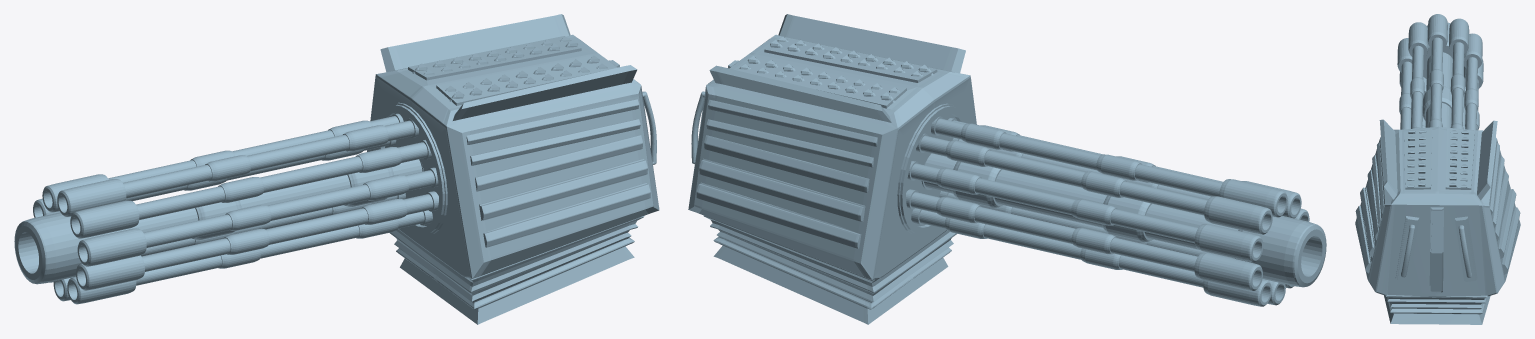
Rendered from cañonPrincip.fbx.
3 views of the same model, side by side, from view 1: azimuth 30°, elevation 25°; view 2: azimuth 150°, elevation 25°; view 3: azimuth 270°, elevation 25° (orthographic). The views are drawn at different scales.
Visible parts, largest first — view 1: Cube.006; view 2: Cube.006; view 3: Cube.006.
Boxes of the visible parts, bbox=[...] form: Cube.006: bbox=[14, 14, 659, 324]; Cube.006: bbox=[688, 14, 1326, 324]; Cube.006: bbox=[1355, 14, 1520, 324].
Bounding box in the file's own units: 423 × 150 × 141.
